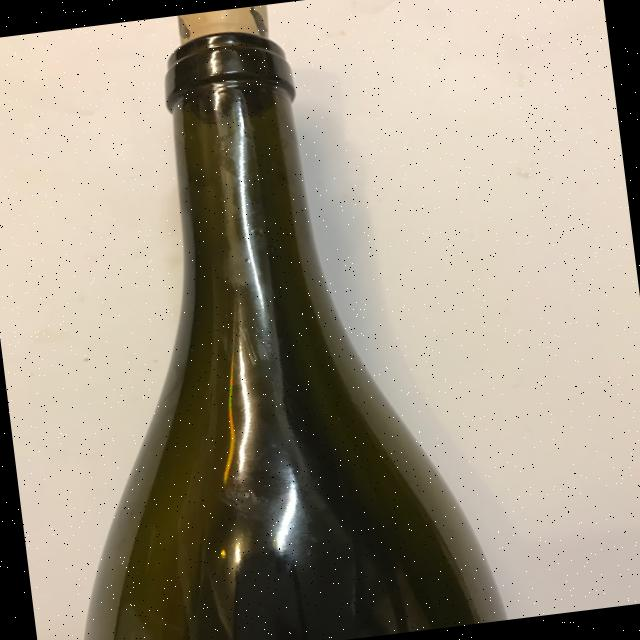glass: (3, 0, 509, 640)
